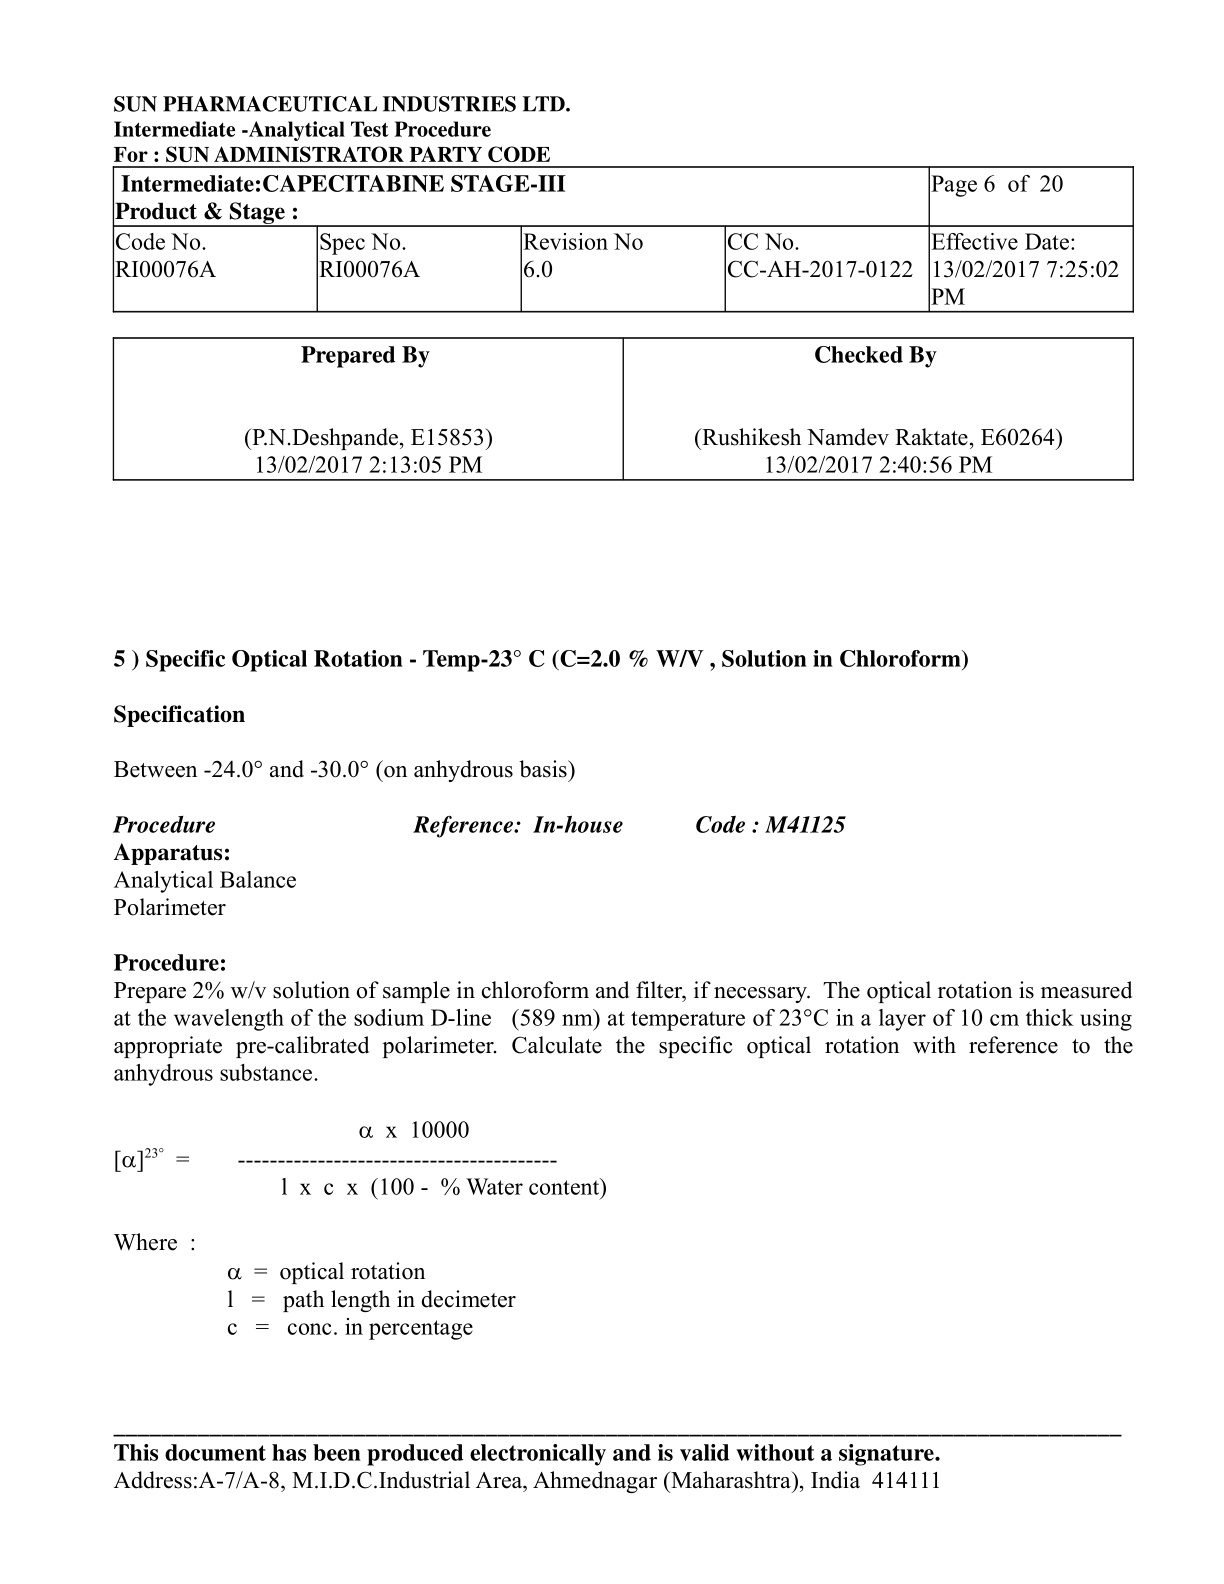full_lined: (112, 336, 1135, 482)
merged_cells: (112, 166, 1135, 314)
